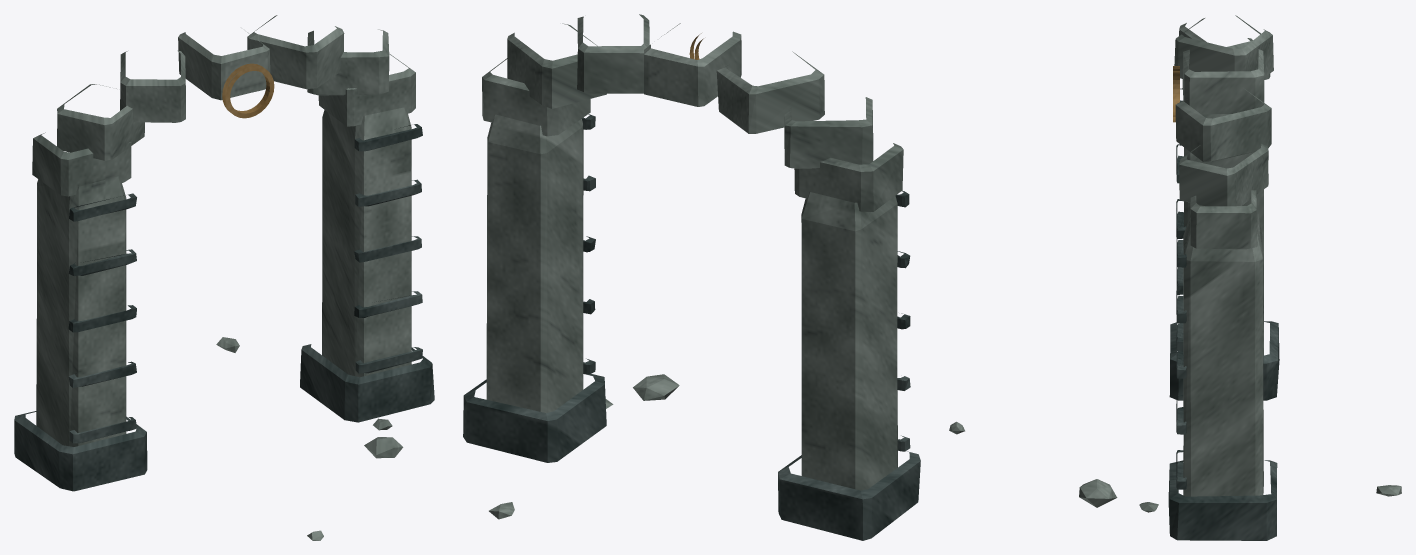
File: 0307_archway_07.glb
3 views of the same model, side by side, from view 1: azimuth 30°, elevation 25°; view 2: azimuth 150°, elevation 25°; view 3: azimuth 270°, elevation 25° (orthographic). The views are drawn at different scales.
Parts seen in each view (by area): view 1: stone, stone_dark, brass; view 2: stone, stone_dark; view 3: stone, stone_dark.
Boxes of the visible parts, x1=… form: stone: x1=32, y1=15, x2=415, y2=540; stone_dark: x1=14, y1=124, x2=434, y2=491; brass: x1=222, y1=63, x2=274, y2=118; stone: x1=482, y1=14, x2=903, y2=519; stone_dark: x1=463, y1=114, x2=920, y2=540; stone: x1=949, y1=15, x2=1401, y2=512; stone_dark: x1=1168, y1=88, x2=1279, y2=540.
Size of the model in its own units: 3.38 by 3.42 by 3.54.
Materials: 3 (3 with a texture image).
